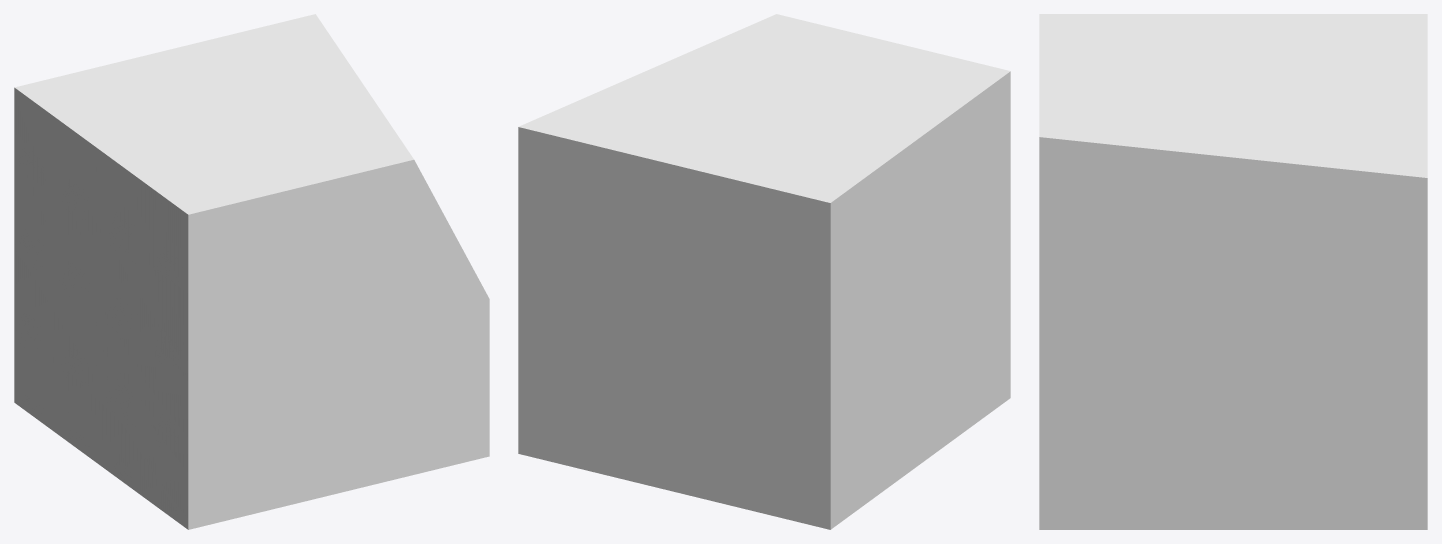
The model's file is r5c4_body_white.gltf.
3 renders of one model, left to right at view 1: azimuth 30°, elevation 25°; view 2: azimuth 150°, elevation 25°; view 3: azimuth 270°, elevation 25°, orthographic. The views are drawn at different scales.
Parts seen in each view (by area): view 1: r5c4_body_white; view 2: r5c4_body_white; view 3: r5c4_body_white.
Boxes of the visible parts, left/top/right/bottom form: r5c4_body_white: left=14, top=14, right=489, bottom=529; r5c4_body_white: left=518, top=14, right=1010, bottom=529; r5c4_body_white: left=1039, top=14, right=1427, bottom=529.
Bounding box in the file's own units: 2 × 2 × 2.
1 material, 1 textured.
